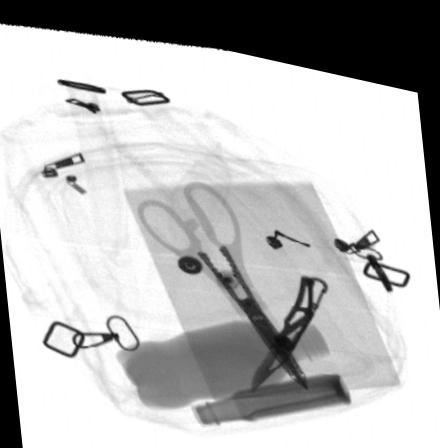Knife: (251, 261, 328, 381)
Scissors: (137, 170, 308, 373)
